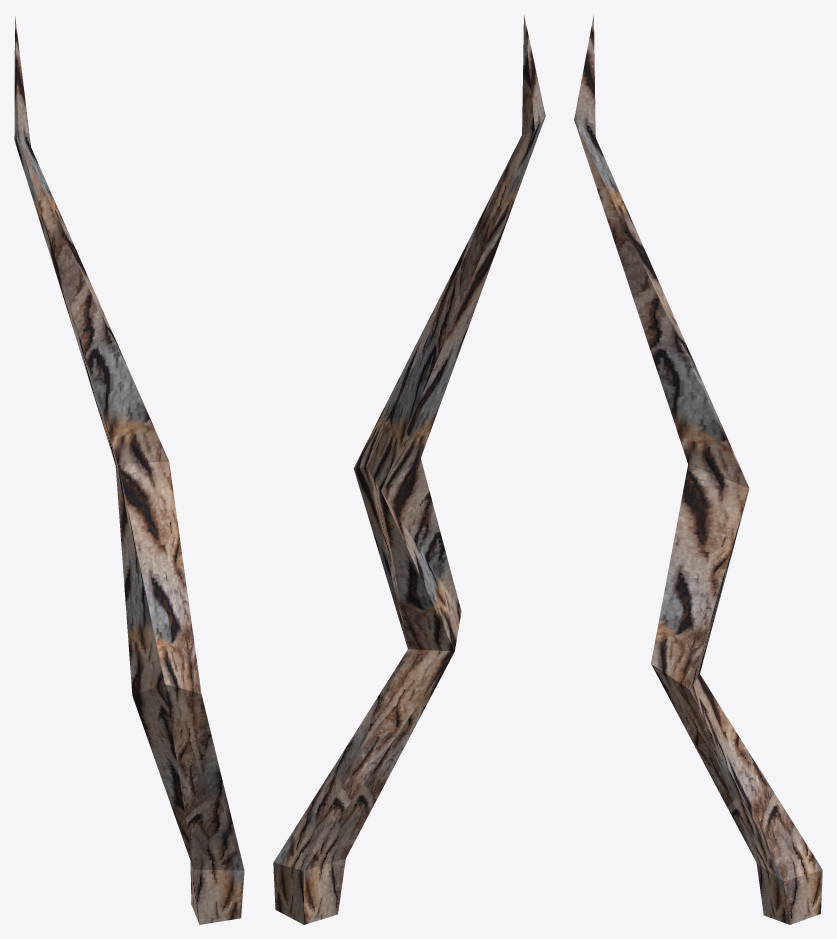
File: Forest_1_Tree_1.gltf
The picture shows the model from 3 angles, left to right: view 1: azimuth 30°, elevation 25°; view 2: azimuth 150°, elevation 25°; view 3: azimuth 330°, elevation 25°; orthographic projection. The views are drawn at different scales.
Visible parts, largest first — view 1: Forest_1_Tree_1; view 2: Forest_1_Tree_1; view 3: Forest_1_Tree_1.
Boxes of the visible parts, x1=… form: Forest_1_Tree_1: x1=14, y1=16, x2=244, y2=924; Forest_1_Tree_1: x1=273, y1=15, x2=545, y2=924; Forest_1_Tree_1: x1=574, y1=15, x2=822, y2=924.
Size of the model in its own units: 2.27 by 8.44 by 1.08.
Materials: 1 (1 with a texture image).
